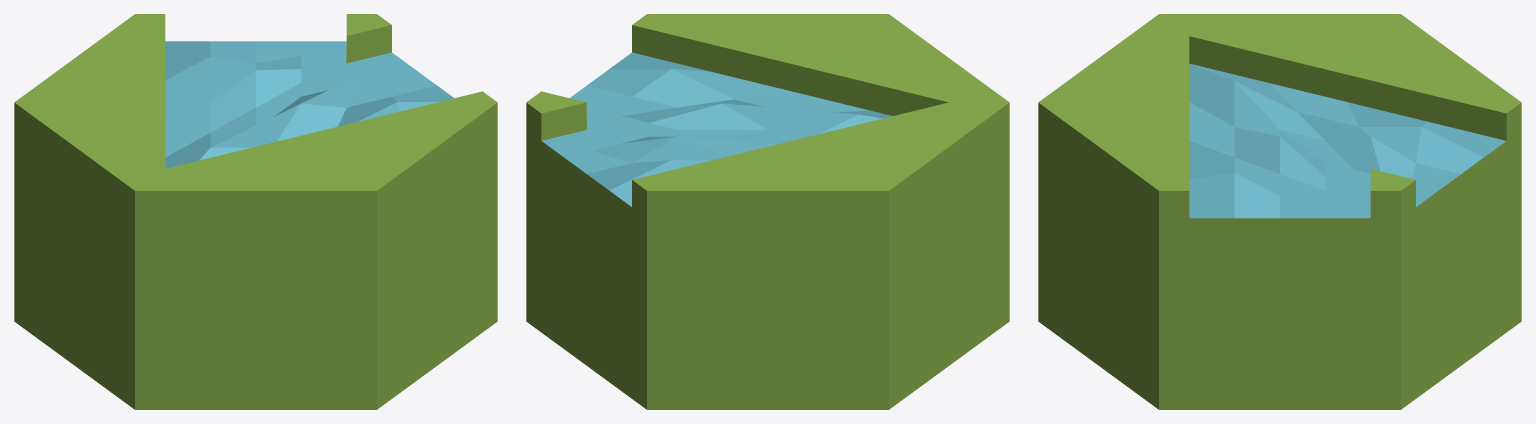
The model's file is river3.fbx.
3 renders of one model, left to right at view 1: azimuth 30°, elevation 25°; view 2: azimuth 150°, elevation 25°; view 3: azimuth 270°, elevation 25°, orthographic.
Parts seen in each view (by area): view 1: Cylinder; view 2: Cylinder; view 3: Cylinder.
Boxes of the visible parts, x1=… form: Cylinder: x1=14, y1=14, x2=497, y2=409; Cylinder: x1=526, y1=14, x2=1009, y2=409; Cylinder: x1=1038, y1=14, x2=1521, y2=409.
Size of the model in its own units: 1.73 by 1 by 2.
